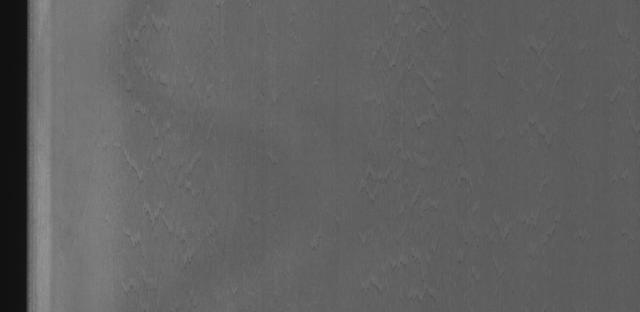silk_spot: (108, 15, 213, 275)
